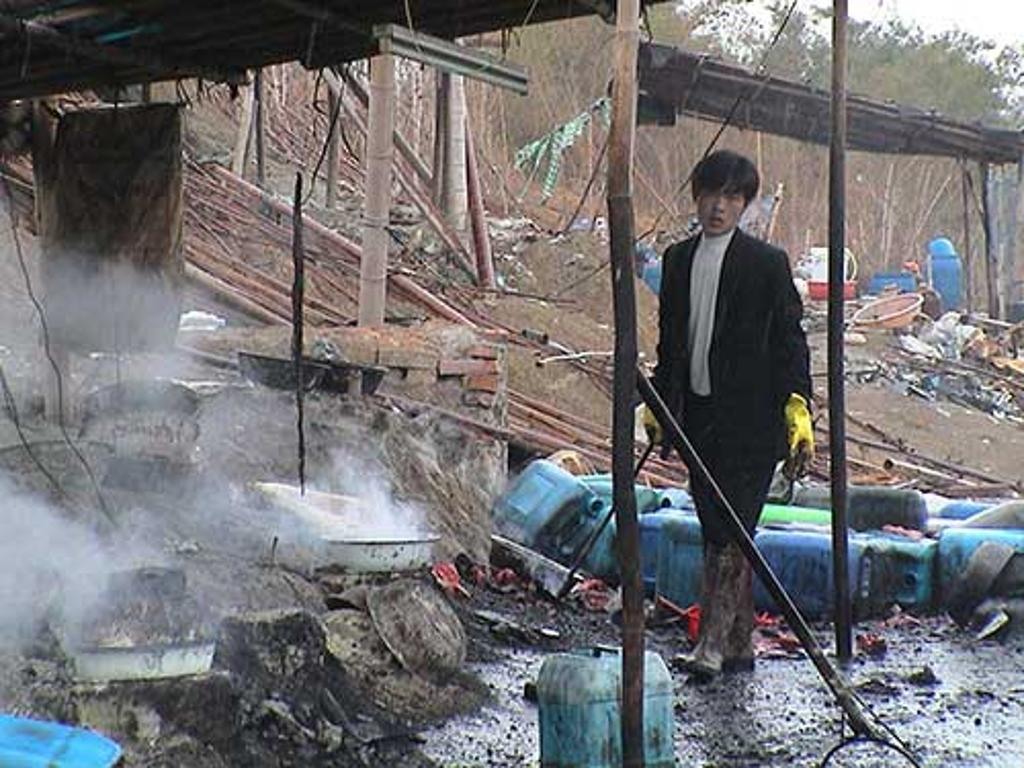face: (698, 183, 745, 235)
